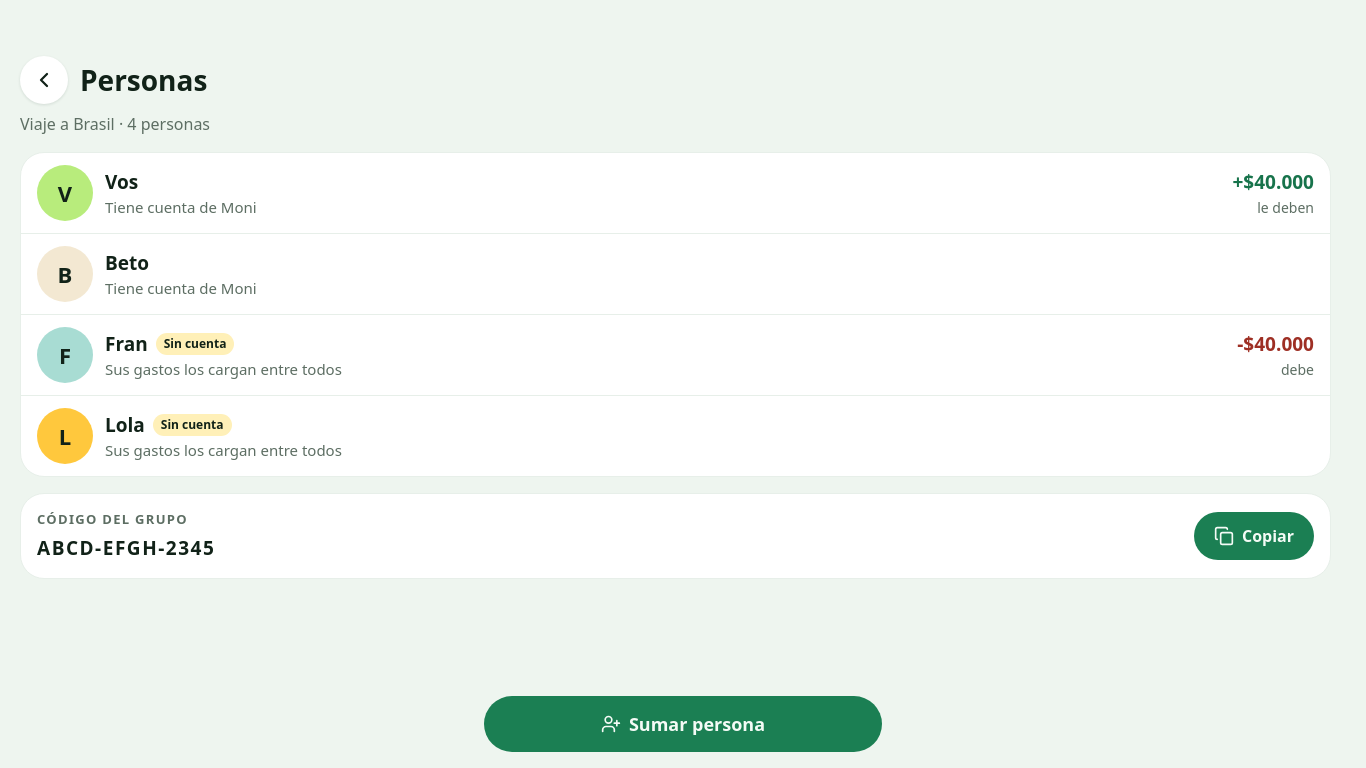
it: Personas del grupo (con y sin cuenta) › does not offer to add someone who is already in the group
Step 1. Click the button "Sumar persona" → (683, 724), box x1=484 y1=696 x2=882 y2=752
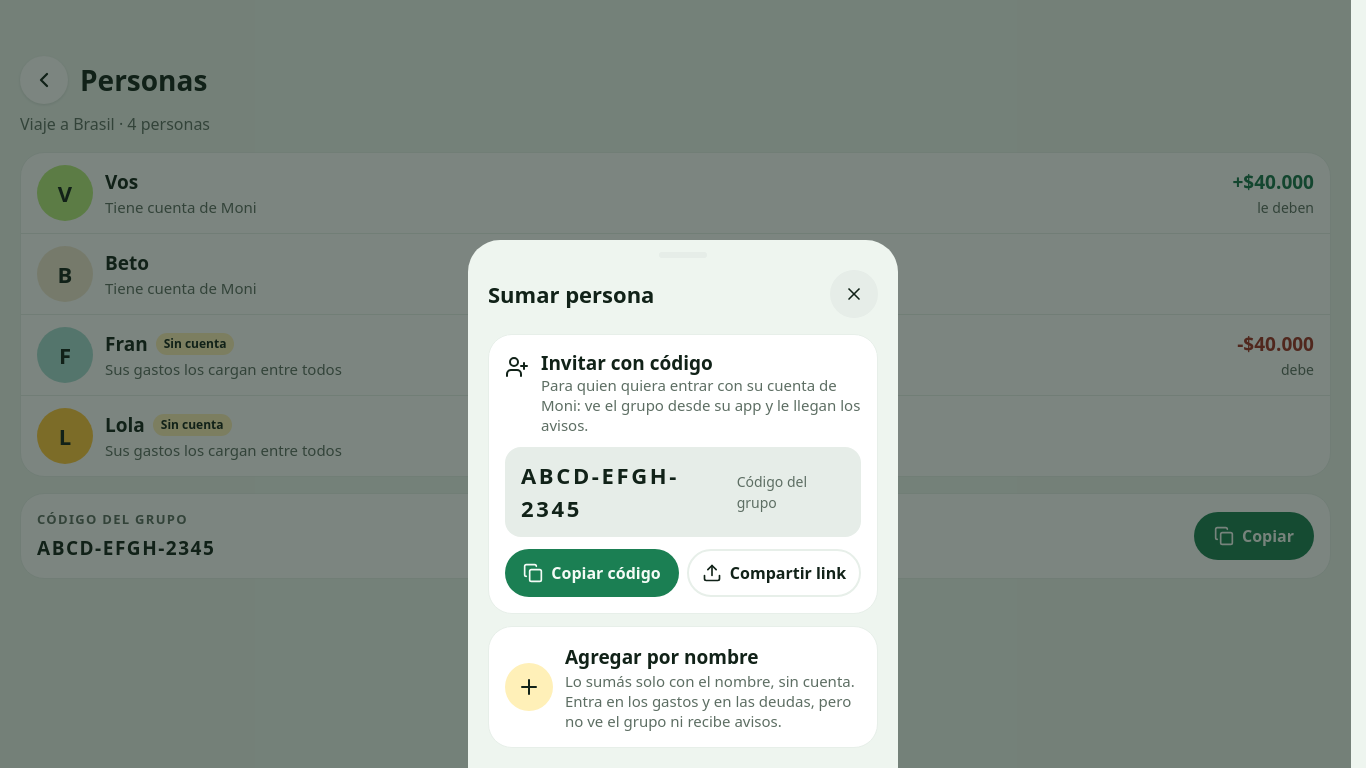
Step 2. Click the button "Agregar por nombre" → (683, 687), box x1=488 y1=626 x2=878 y2=748
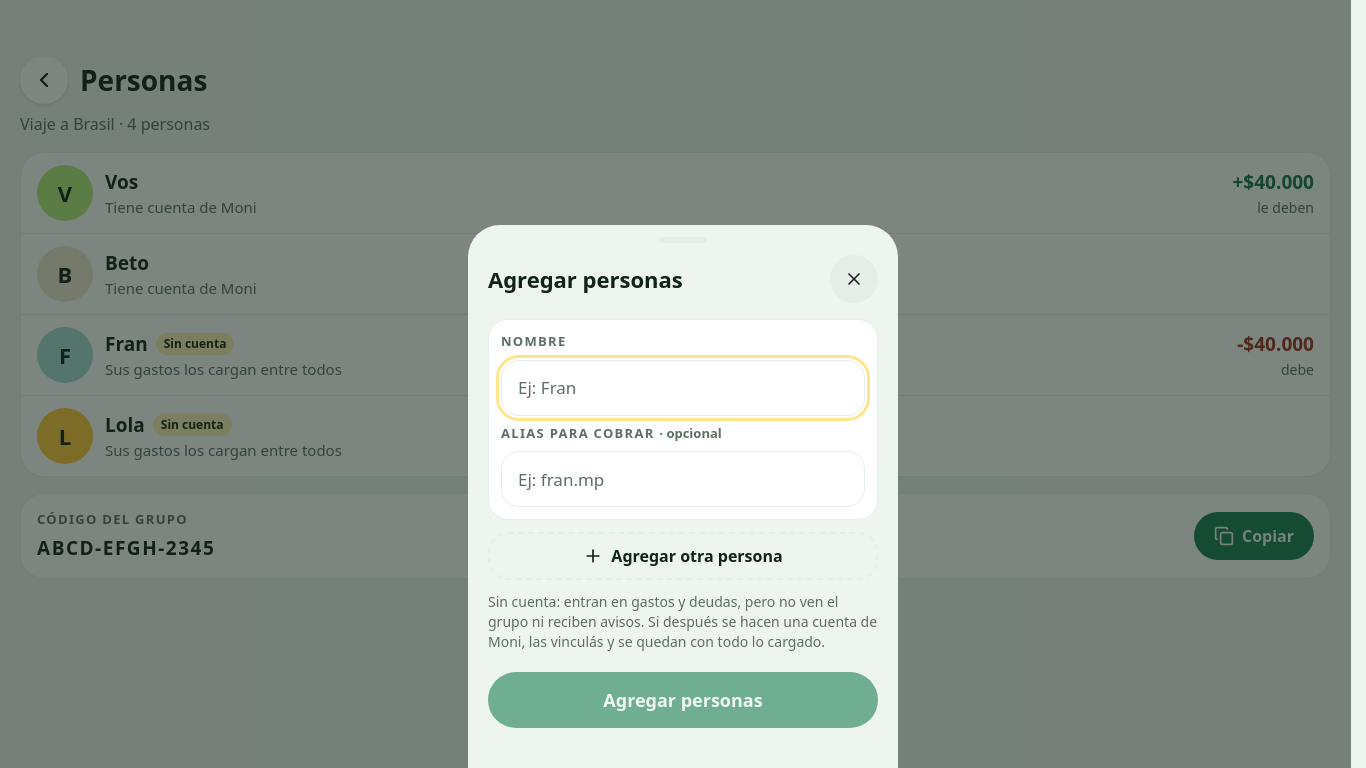
Step 3. Type "Fran" into the field named "Nombre" → (683, 388), box x1=501 y1=360 x2=865 y2=416
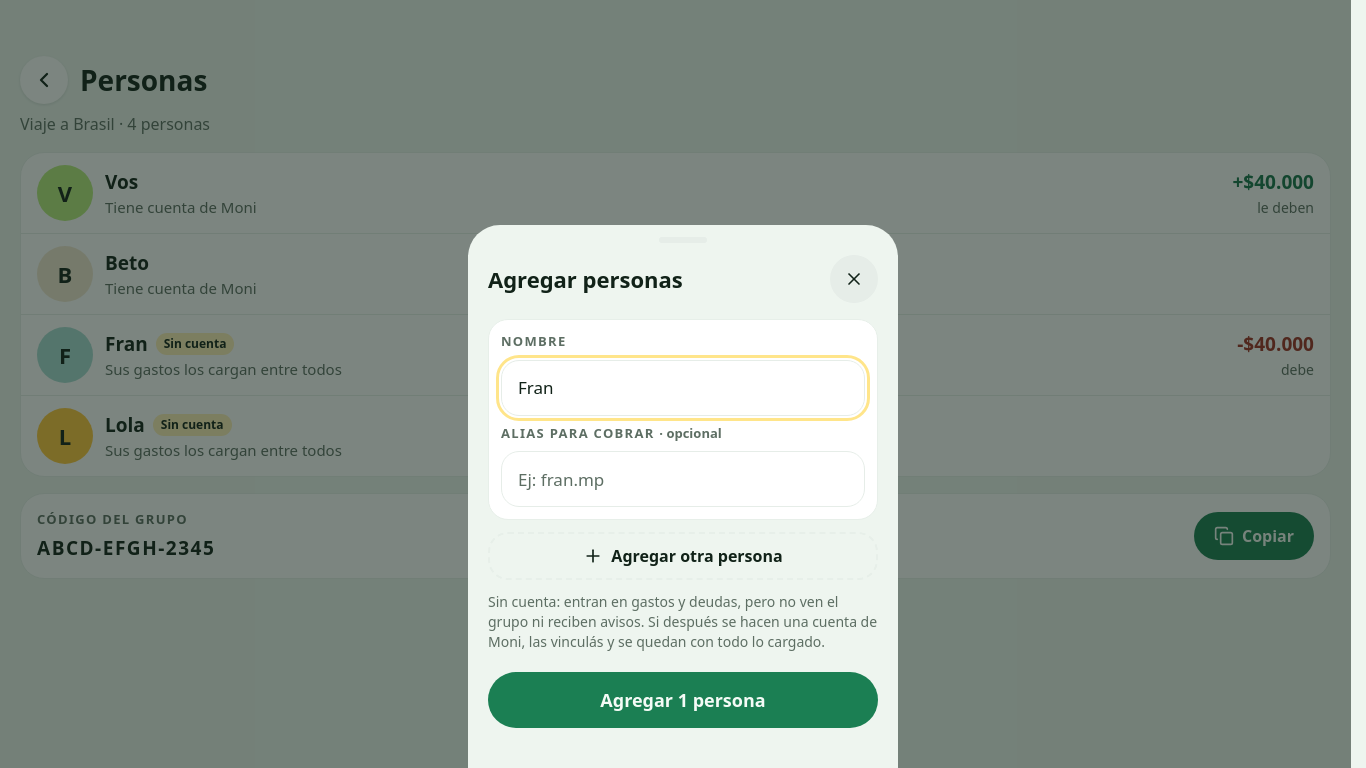
Step 4. Click the button "Agregar 1 persona" → (683, 700), box x1=488 y1=672 x2=878 y2=728
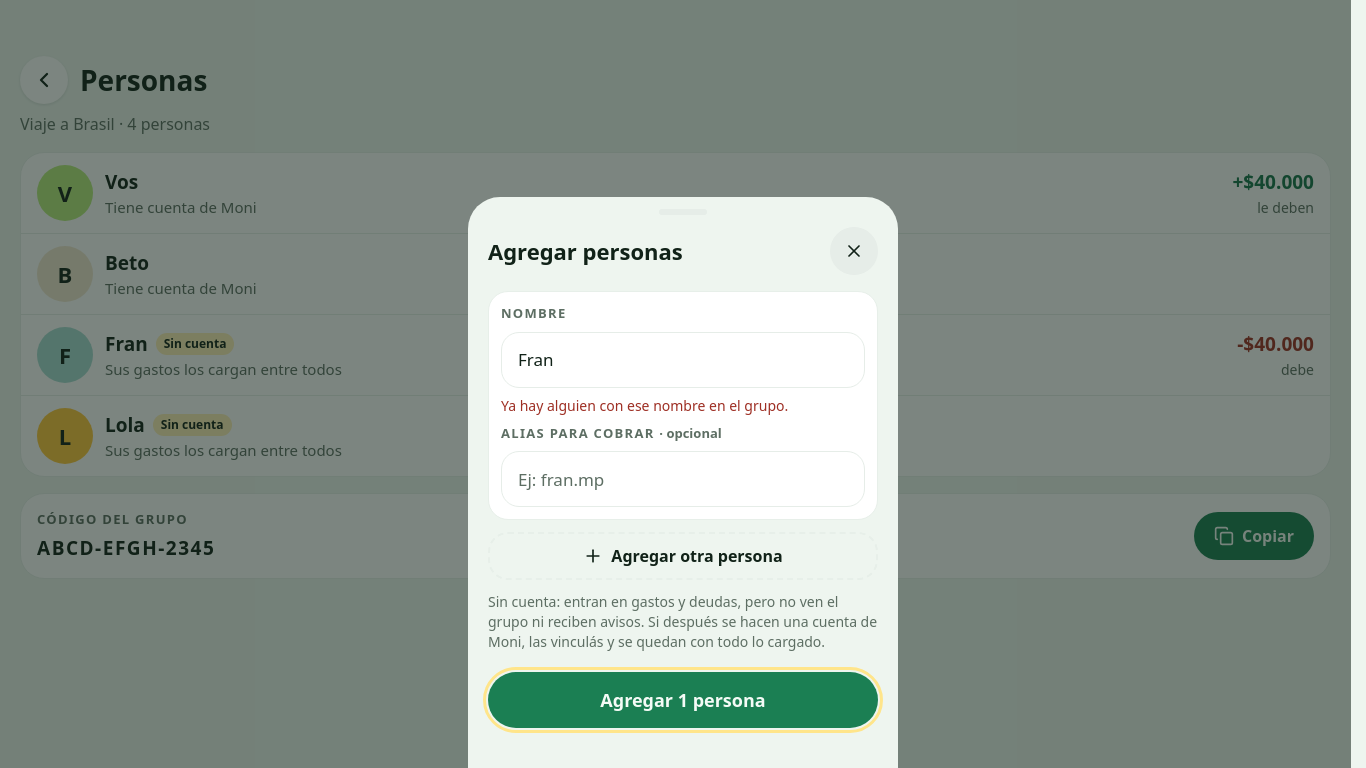
Expected: the text "Ya hay alguien con ese nombre en el grupo." is shown, x1=501 y1=396 x2=788 y2=414
